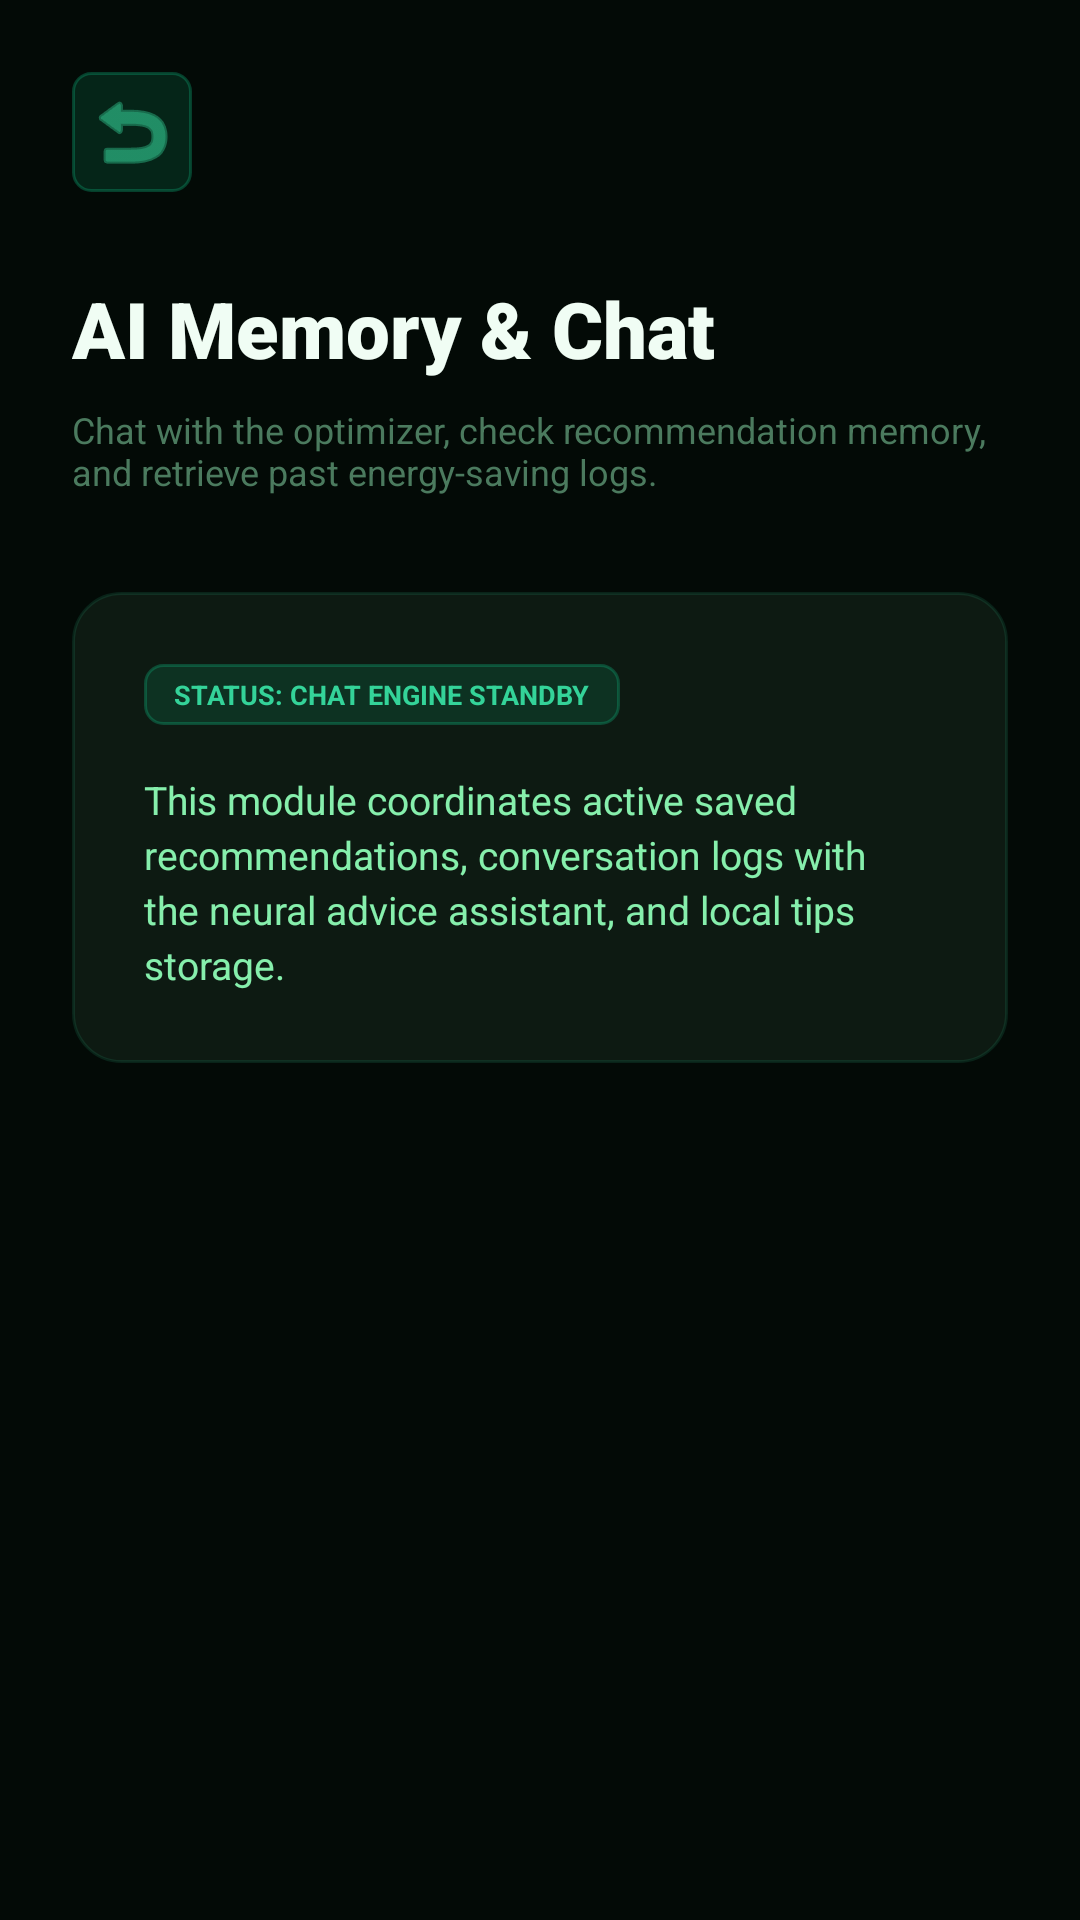

Icons on this 1080px×1920px Android screen, each with the point to tap as (x=x, y=y):
revert: (x=132, y=132)
